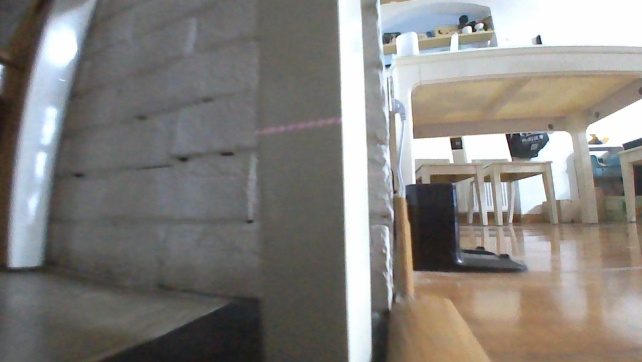charger: (402, 178, 531, 274)
dining_table: (386, 40, 641, 226)
wire: (390, 97, 410, 196)
